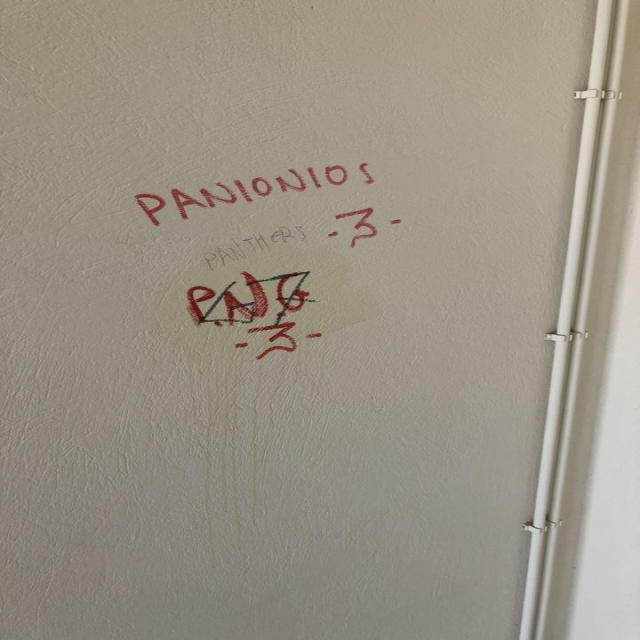nonspitting: (134, 157, 403, 246), (188, 269, 320, 357)
